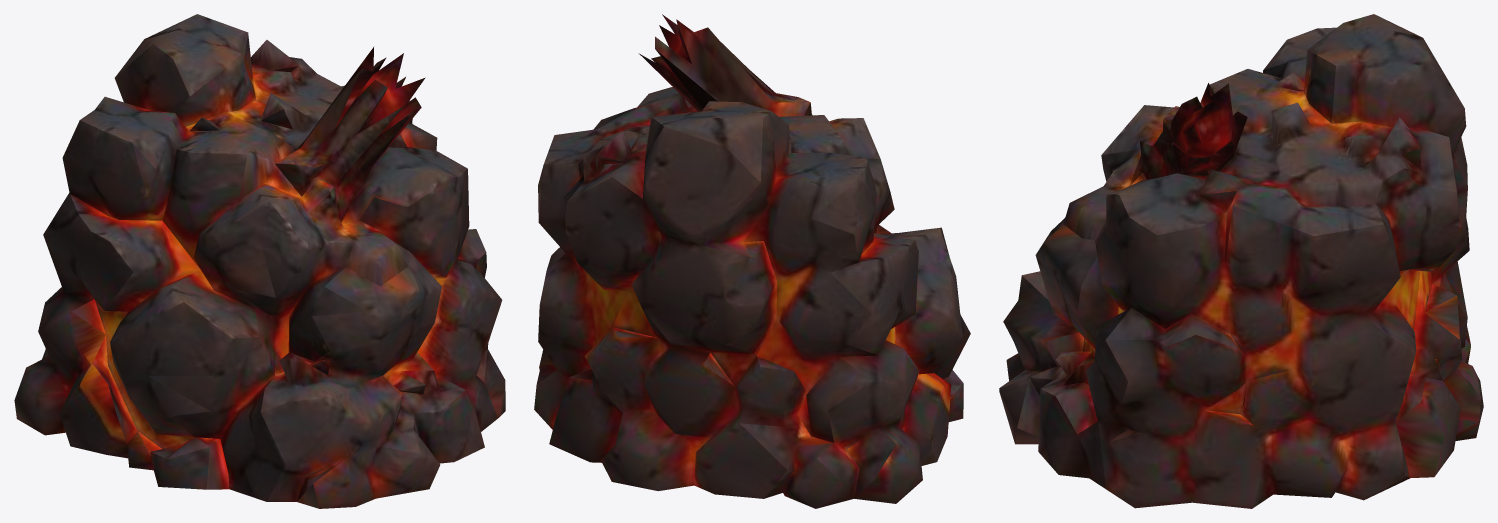
The model's file is d_braises_massif.glb.
3 renders of one model, left to right at view 1: azimuth 30°, elevation 25°; view 2: azimuth 150°, elevation 25°; view 3: azimuth 270°, elevation 25°, orthographic. The views are drawn at different scales.
Parts seen in each view (by area): view 1: geometry_0; view 2: geometry_0; view 3: geometry_0.
Part boxes in pixels (left/top/right/bottom): geometry_0: left=14, top=14, right=505, bottom=508; geometry_0: left=534, top=14, right=970, bottom=508; geometry_0: left=999, top=14, right=1483, bottom=508.
Bounding box in the file's own units: 0.9942 × 0.866 × 0.9898.
Materials: 1 (1 with a texture image).
